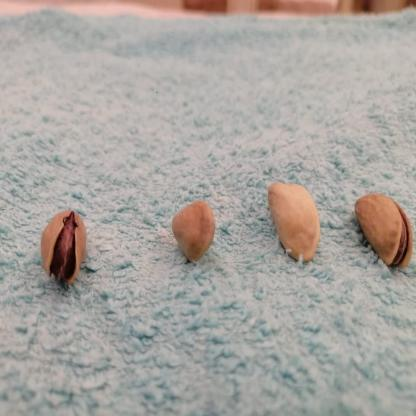pistachio: (266, 177, 324, 273), (354, 187, 416, 275), (39, 202, 92, 294), (168, 191, 218, 265)
